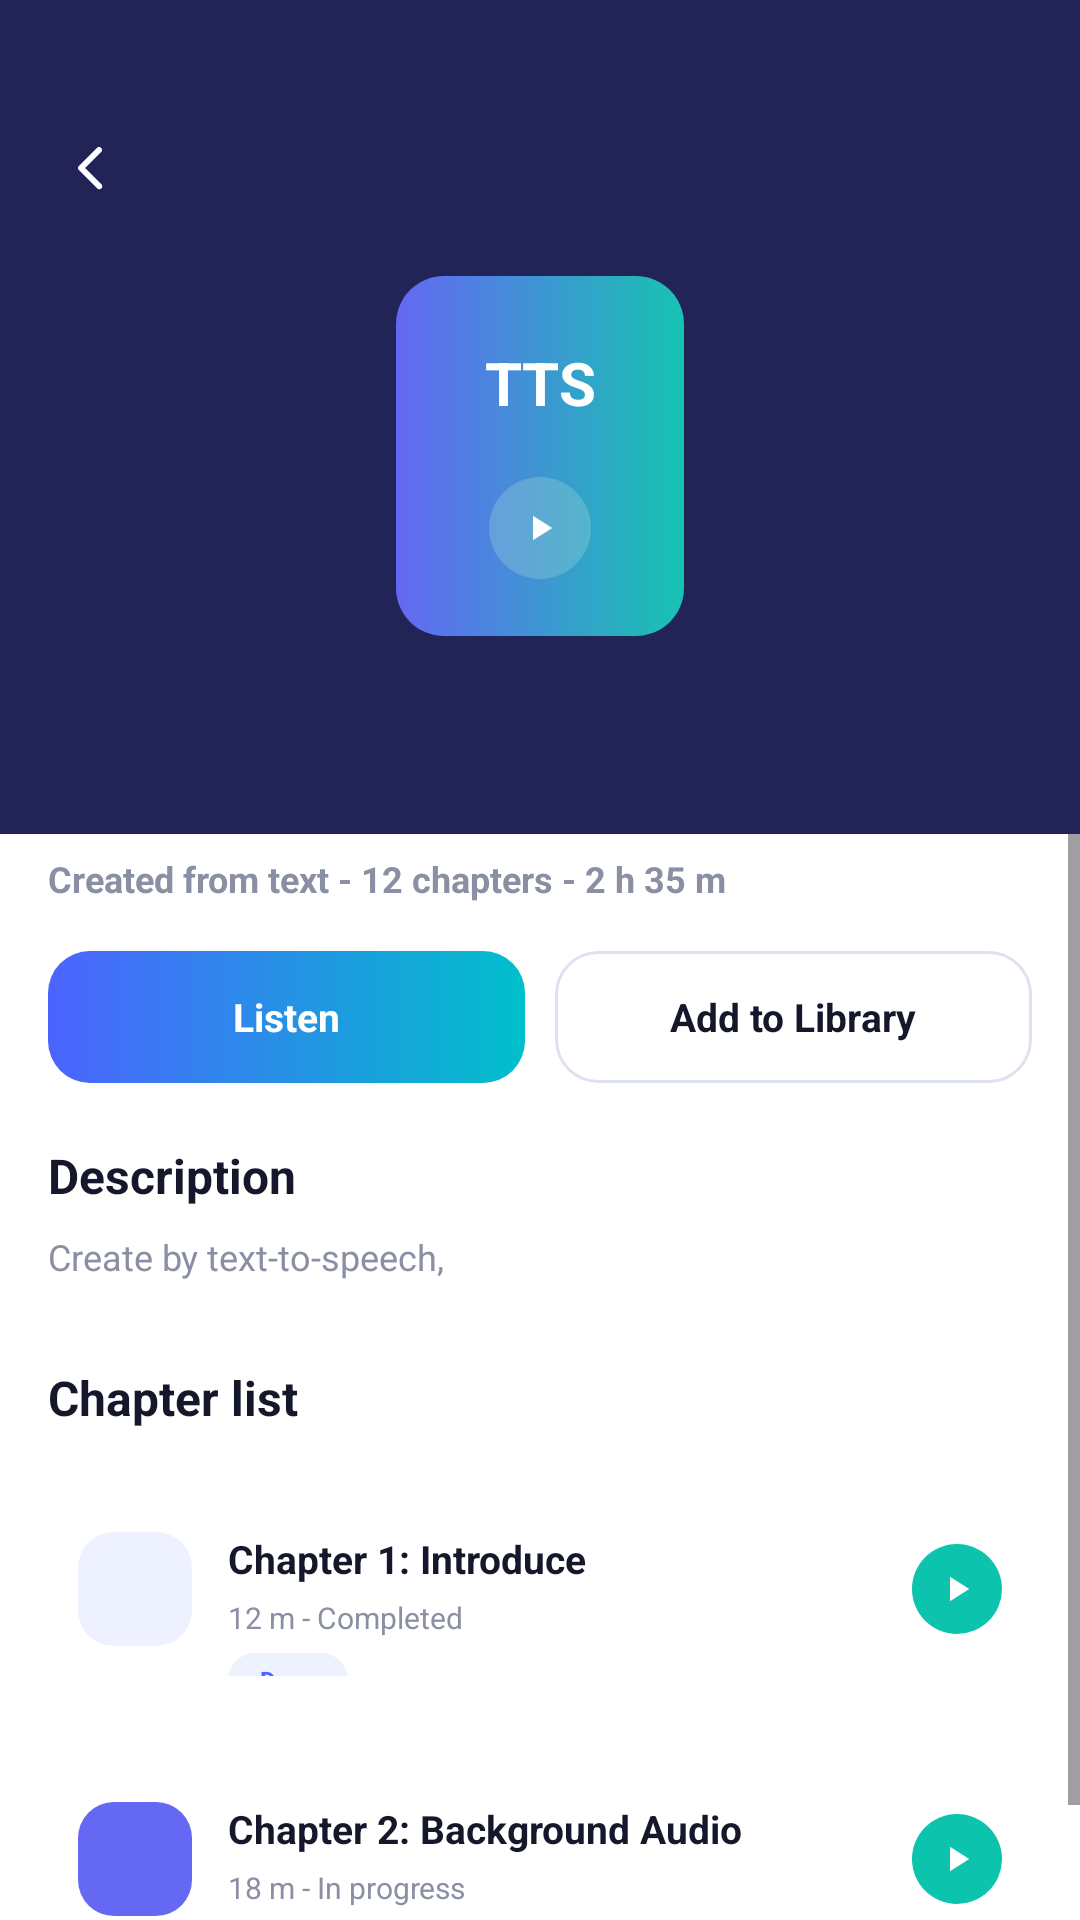

Screen size 1080px×1920px. Icon name, then its center in pixels as (x,y):
Back: (90,168)
